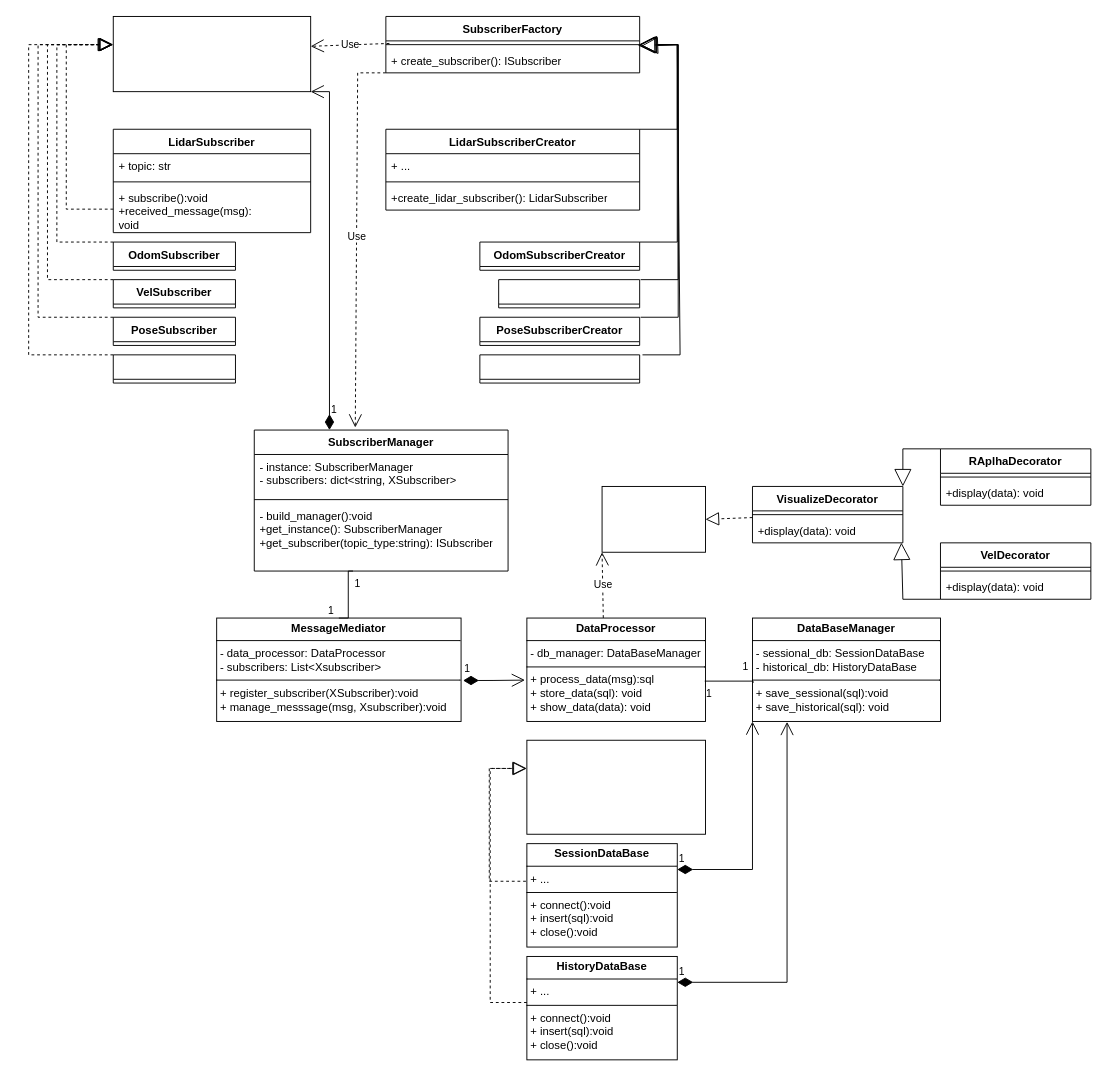
Image size: 1107x1076. Some labels were removed from this diagram. Each missing label, with the centre of its shape:
<<Interface>> IDataBase + connect():void + insert(sql) :void + close() :void: (x=615, y=786)
<<Interface>> ISubscriber + subscribe():void + received_message(msg) :voidf: (x=211, y=54)
<<Interface>> IVisualizer + display(data):void: (x=653, y=519)
FloatSubscriber: (x=173, y=368)
FloatSubscriberCreator: (x=559, y=368)
VelSubscriberCreator: (x=569, y=293)
